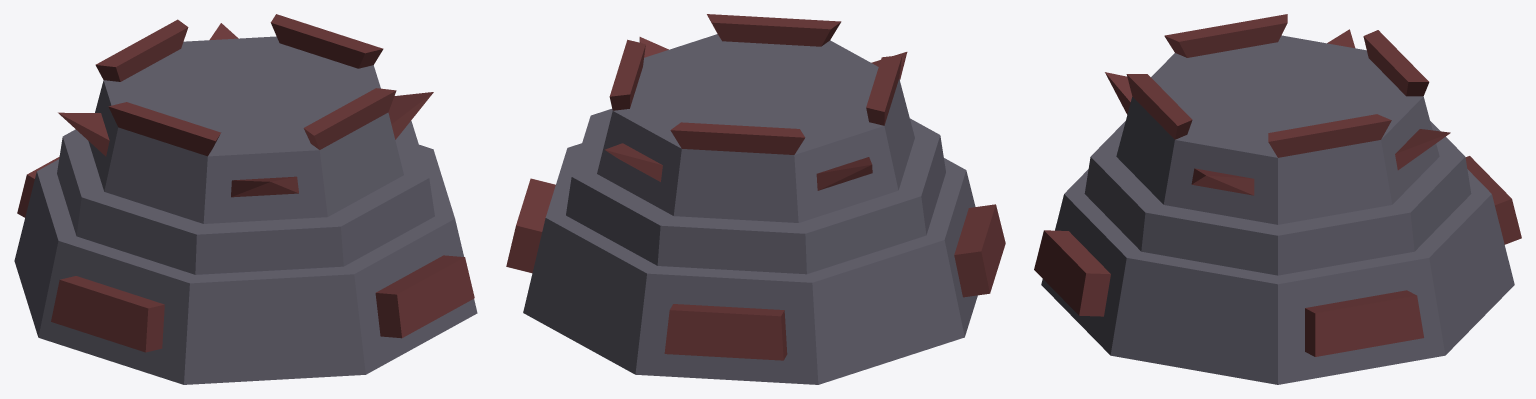
The model's file is altar.dae.
3 views of the same model, side by side, from view 1: azimuth 30°, elevation 25°; view 2: azimuth 150°, elevation 25°; view 3: azimuth 270°, elevation 25° (orthographic).
Parts seen in each view (by area): view 1: Cylinder; view 2: Cylinder; view 3: Cylinder.
Part boxes in pixels (bbox=[...]): Cylinder: bbox=[14, 14, 477, 384]; Cylinder: bbox=[506, 14, 1005, 384]; Cylinder: bbox=[1034, 14, 1521, 384].
Size of the model in its own units: 2.06 by 2.06 by 0.964.
